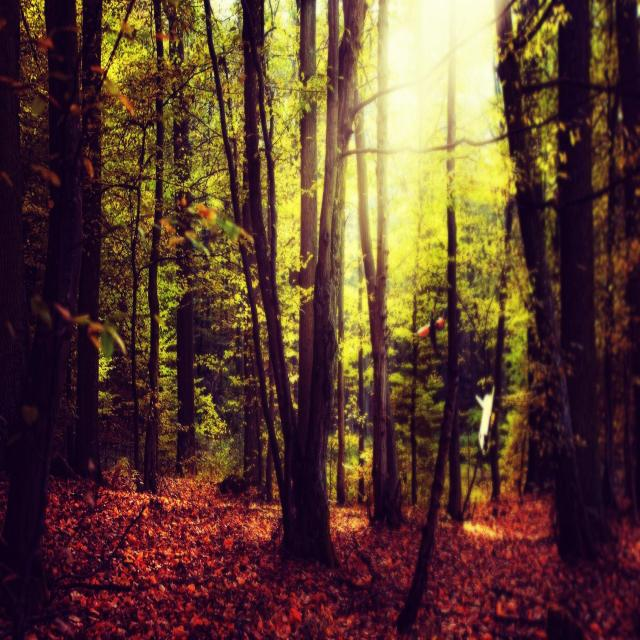airplane: (472, 388, 494, 452), (414, 310, 447, 339)
